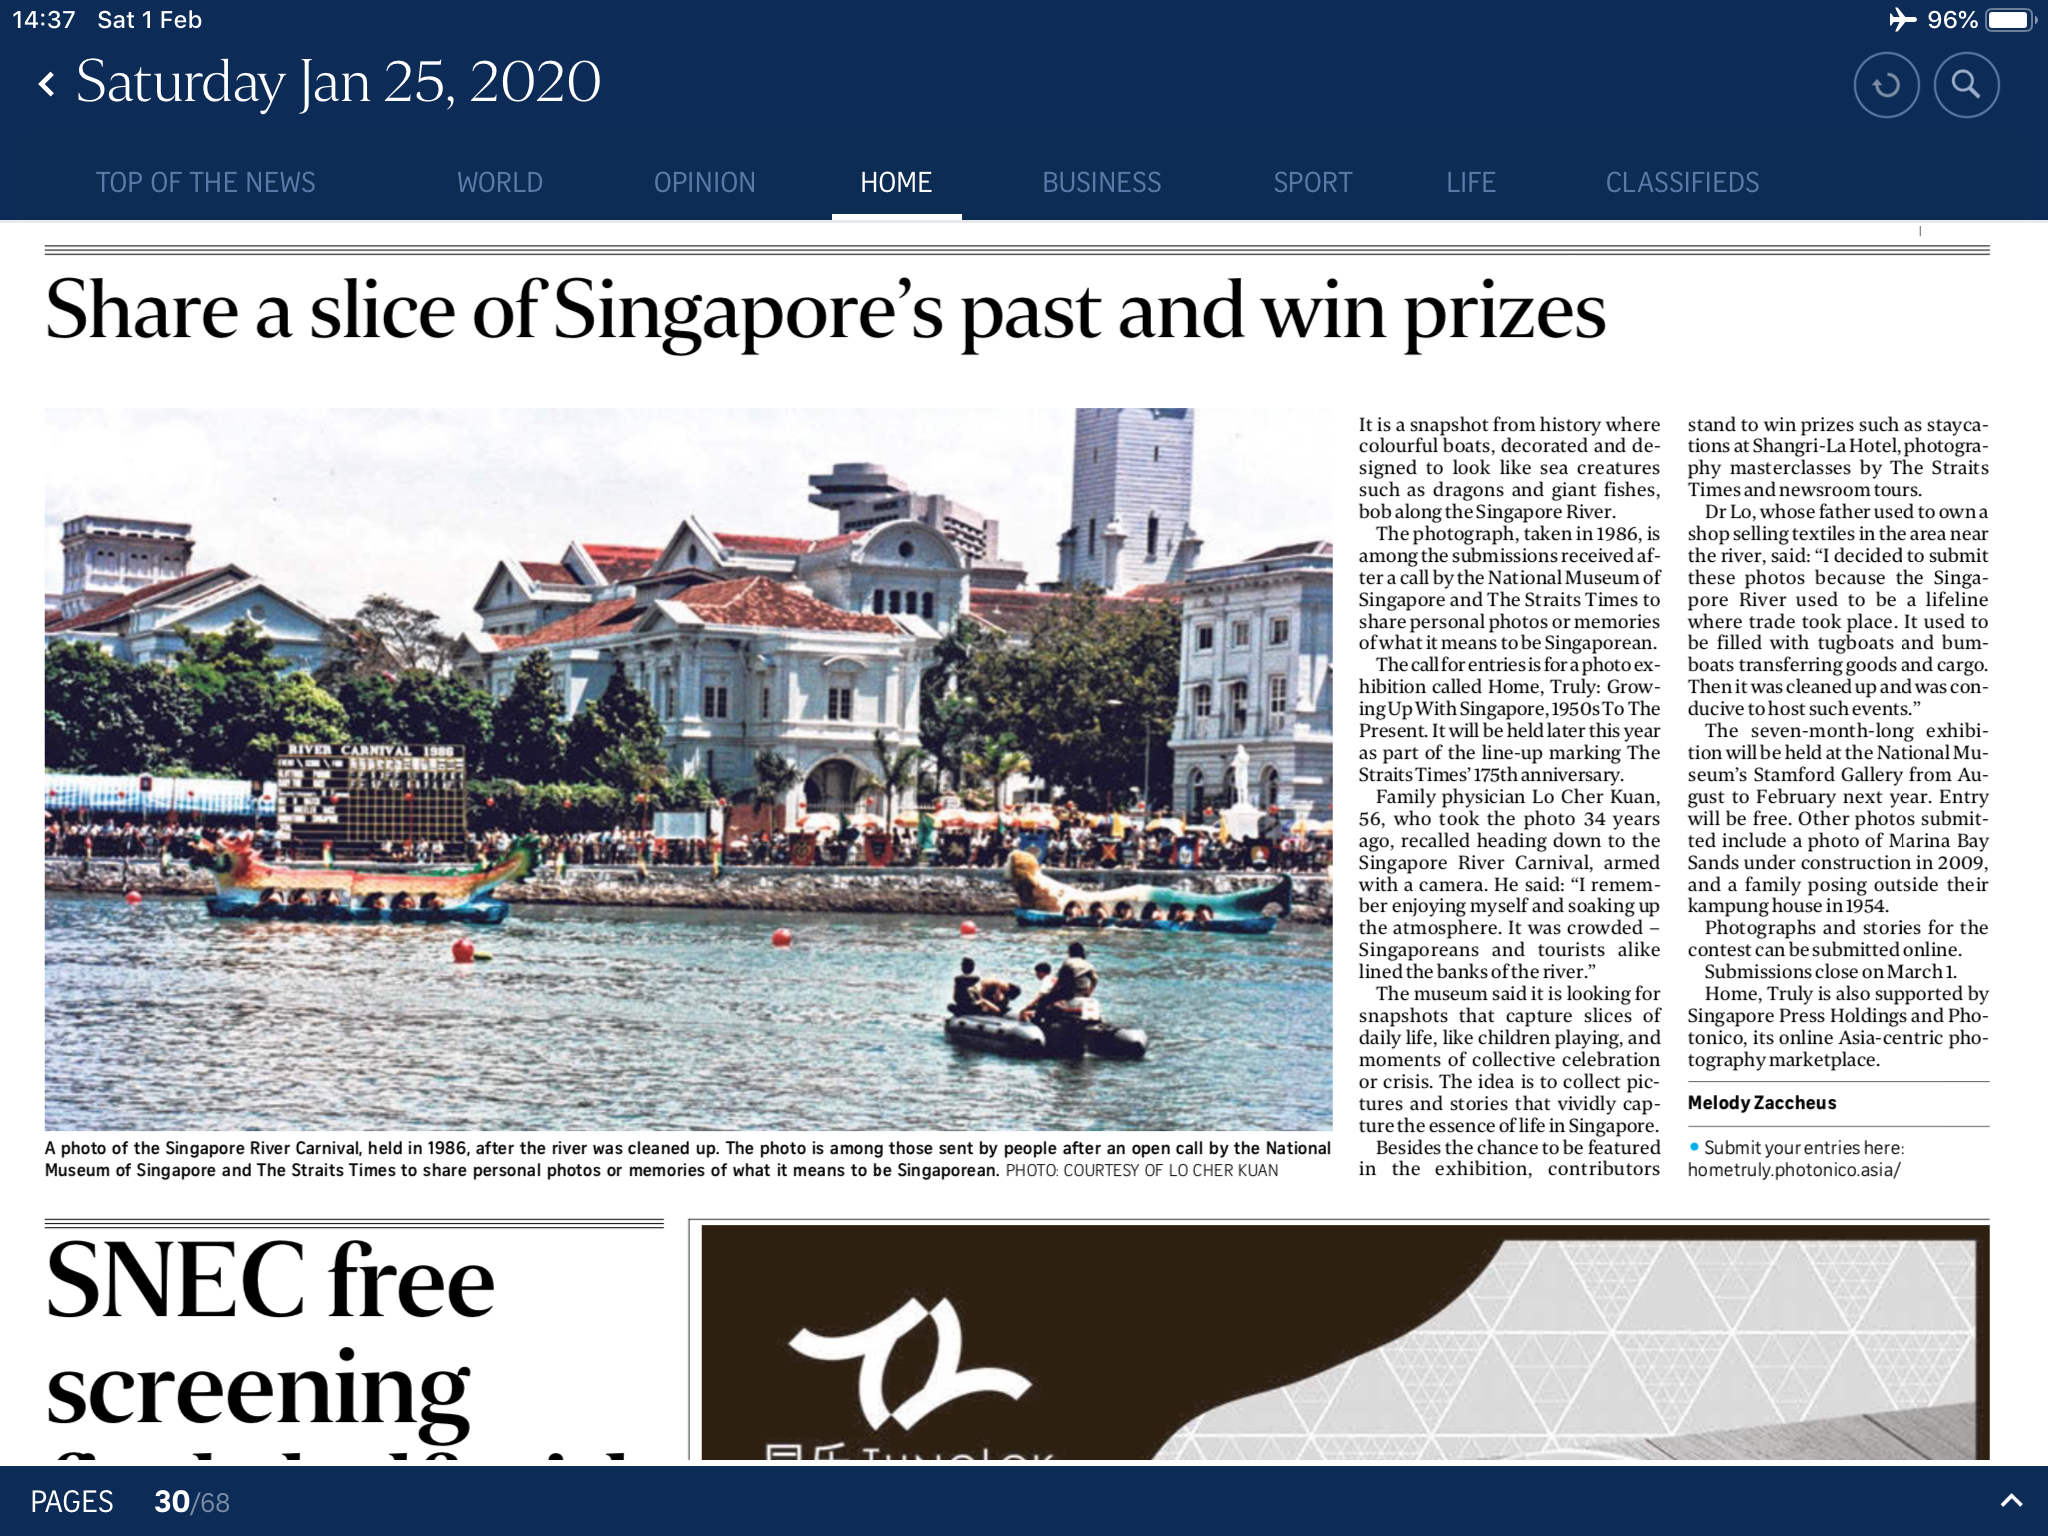Byline: (1684, 1087, 1838, 1113)
Headline: (45, 271, 1617, 352), (45, 1236, 502, 1447)
Illustration: (40, 1141, 1330, 1183)
Image: (44, 407, 1330, 1133), (705, 1226, 1988, 1465)
Text: (1356, 415, 1664, 1179), (1687, 419, 1988, 1071)
